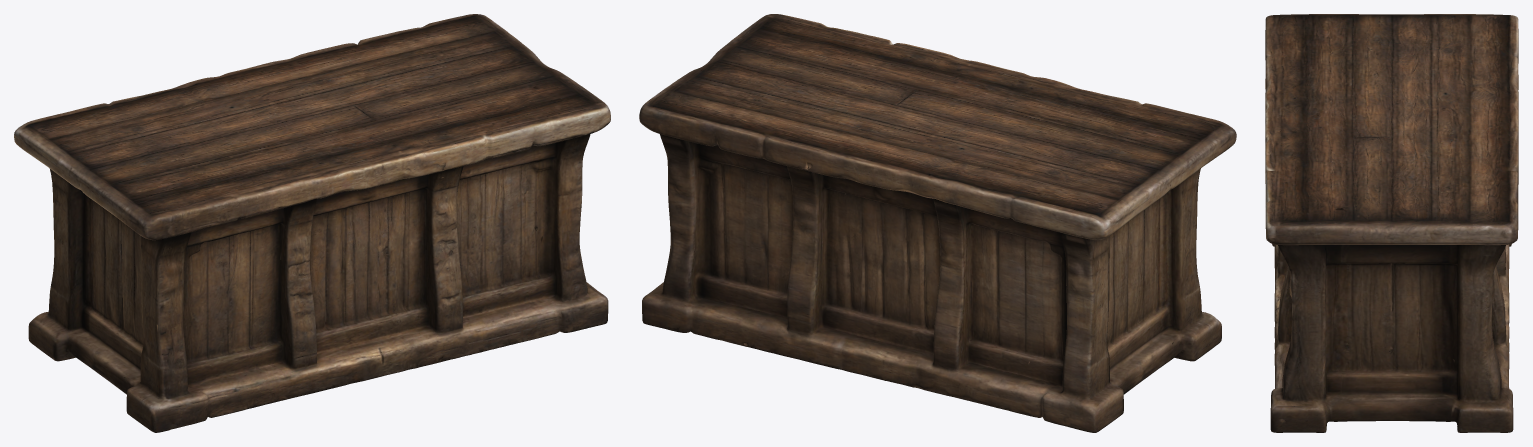
File: A_medieval_rustic_woo_0613151657_texture.fbx
3 renders of one model, left to right at view 1: azimuth 30°, elevation 25°; view 2: azimuth 150°, elevation 25°; view 3: azimuth 270°, elevation 25°, orthographic. The views are drawn at different scales.
Parts seen in each view (by area): view 1: Mesh1_Mesh1.041; view 2: Mesh1_Mesh1.041; view 3: Mesh1_Mesh1.041.
Boxes of the visible parts, x1=… form: Mesh1_Mesh1.041: x1=14, y1=14, x2=610, y2=432; Mesh1_Mesh1.041: x1=639, y1=14, x2=1236, y2=432; Mesh1_Mesh1.041: x1=1265, y1=14, x2=1518, y2=432.
Size of the model in its own units: 200 by 89.18 by 98.7.
1 material, 1 textured.
